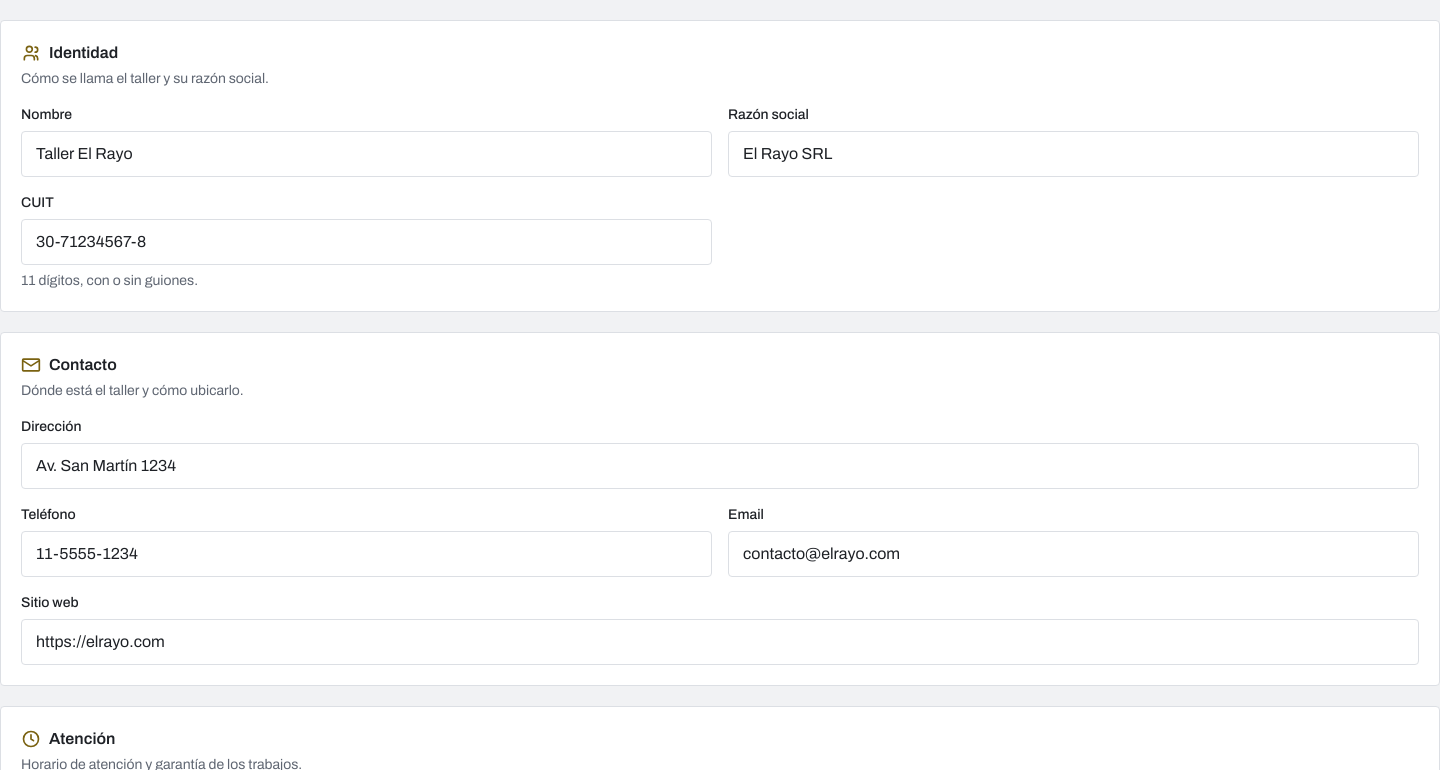
it: ConfigTaller › guarda solo los campos cambiados y avisa con un toast
Replace the text in the field labelled "Nombre" with "Taller Norte" at (366, 154), box [21, 131, 712, 177]
(page scrolled)
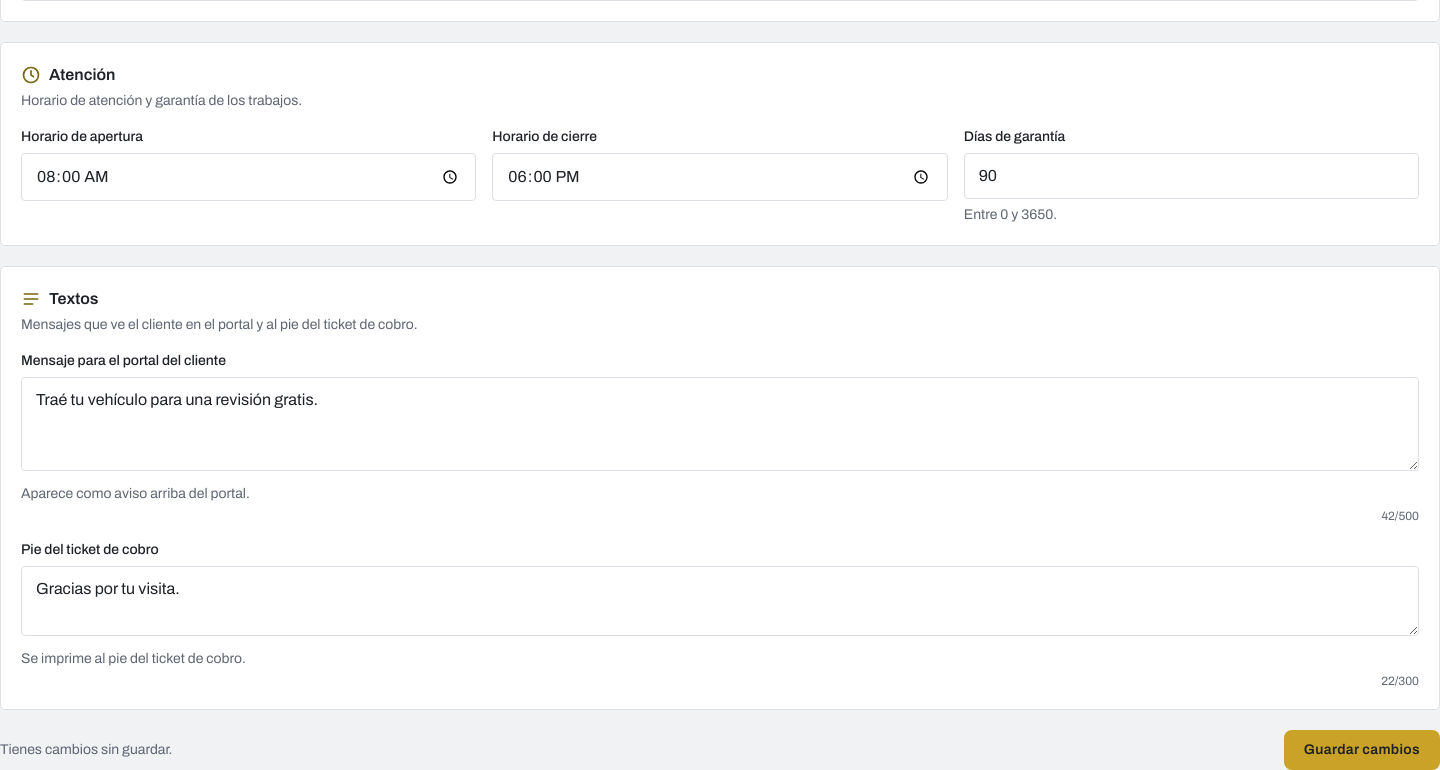
expect the text "Tienes cambios sin guardar." is shown: met, box [0, 740, 172, 760]
Click the button "Guardar cambios" at (1362, 750), box [1284, 730, 1439, 769]
(page scrolled)
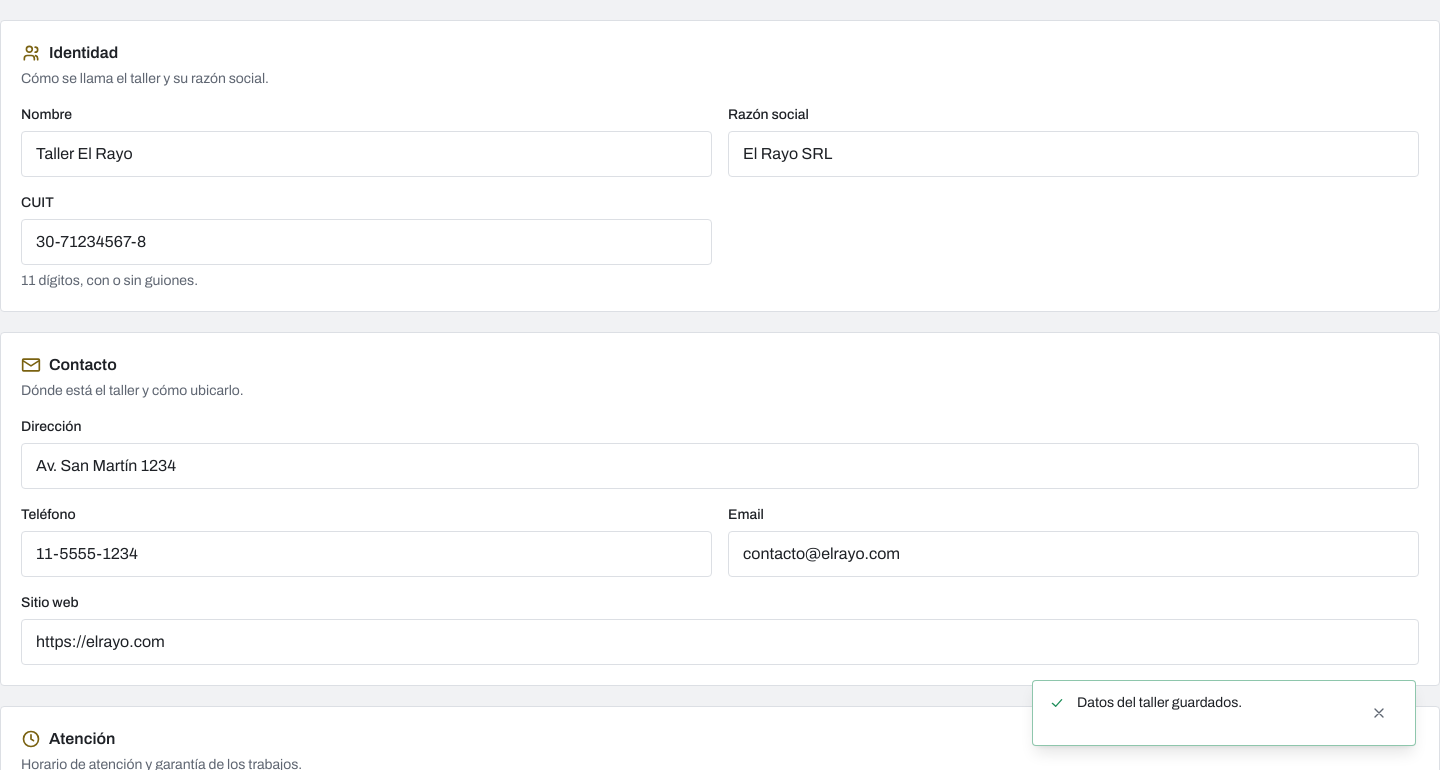
expect the text "Datos del taller guardados." is shown: met, box [1077, 695, 1242, 710]
expect the field labelled "Nombre" holds "Taller El Rayo": met, box [21, 131, 712, 177]
